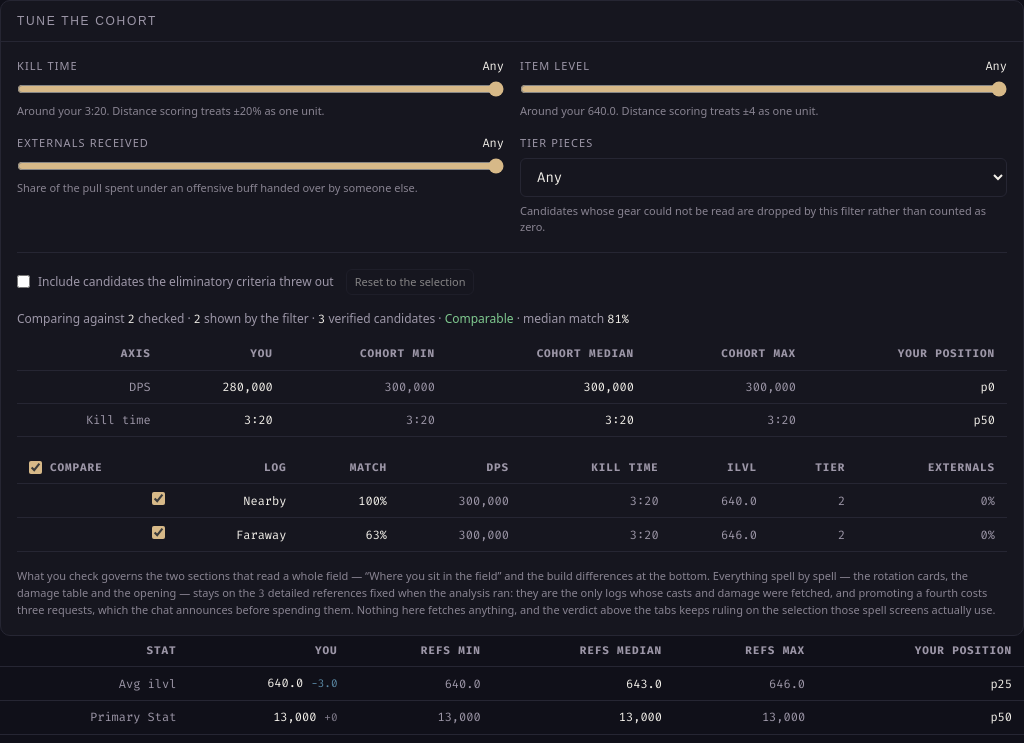
Test: cohortFilterPanel › names the detailed reference the cohort no longer includes
Click the checkbox named "compare against faraway".
click(158, 533)  # box [152,526,164,539]
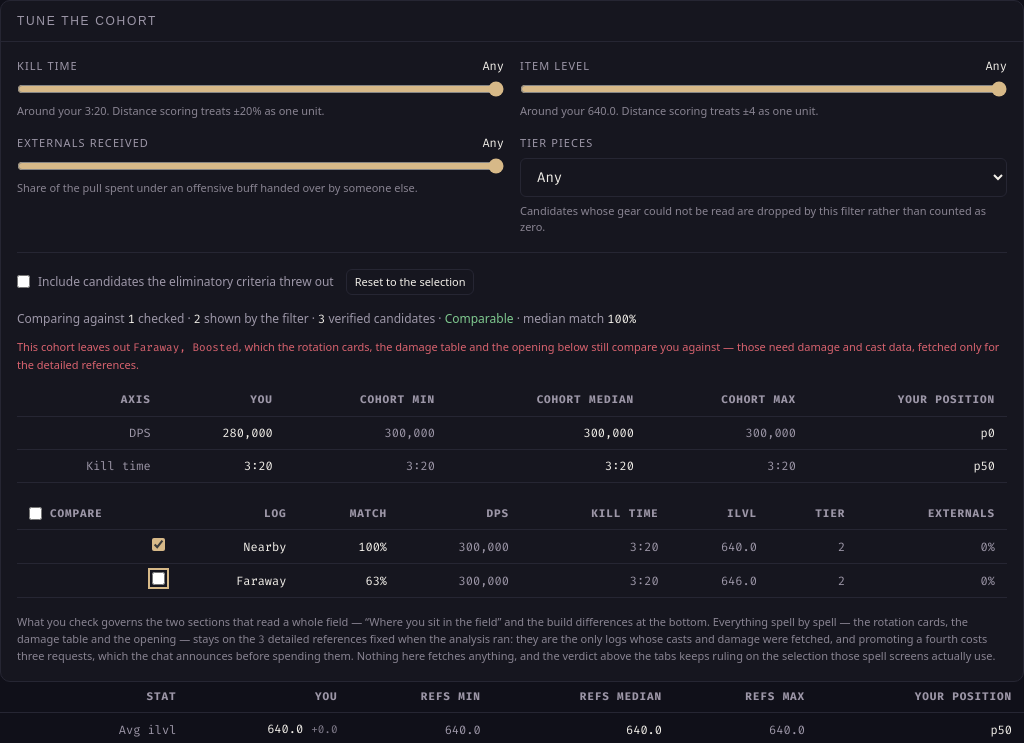
Expected: the text "still compare you against" does not show "Nearby", [17,339,1007,373]
Now the text "still compare you against" shows "Faraway", box [133,340,239,355]
